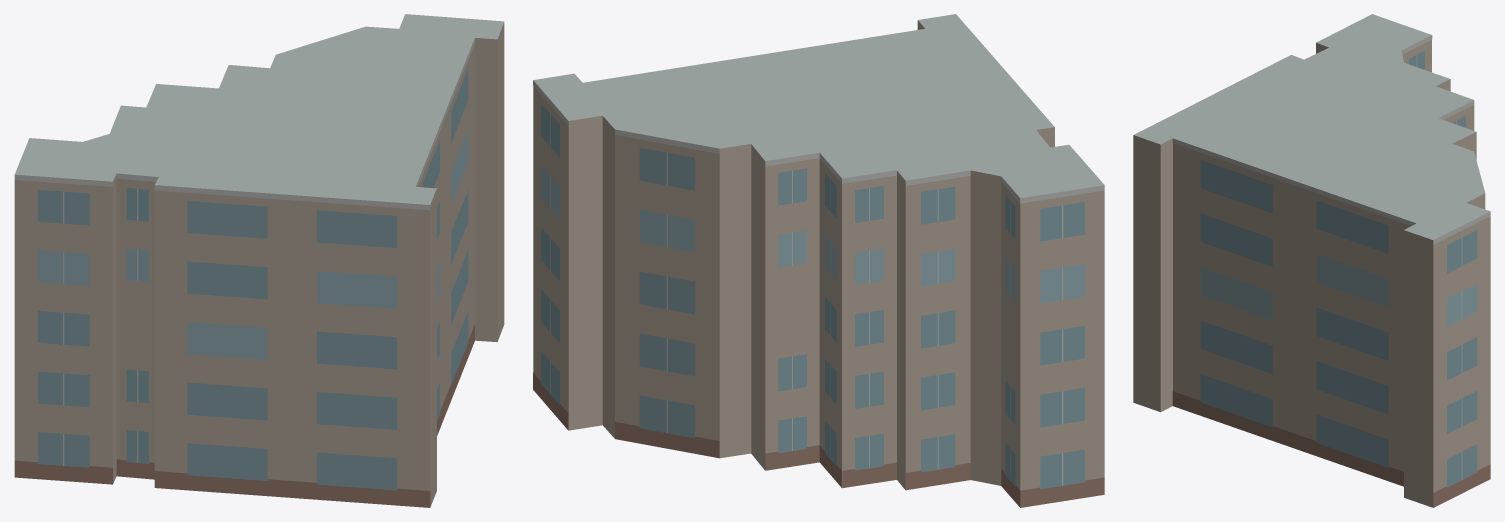
File: survey-upis-32708752.glb
The picture shows the model from 3 angles, left to right: view 1: azimuth 30°, elevation 25°; view 2: azimuth 150°, elevation 25°; view 3: azimuth 270°, elevation 25°; orthographic projection. The views are drawn at different scales.
Parts seen in each view (by area): view 1: survey-upis-32708752.tmp; view 2: survey-upis-32708752.tmp; view 3: survey-upis-32708752.tmp.
Boxes of the visible parts, x1=… form: survey-upis-32708752.tmp: x1=14, y1=14, x2=504, y2=507; survey-upis-32708752.tmp: x1=533, y1=14, x2=1104, y2=507; survey-upis-32708752.tmp: x1=1133, y1=14, x2=1490, y2=507.
Bounding box in the file's own units: 25.47 × 14.05 × 17.
